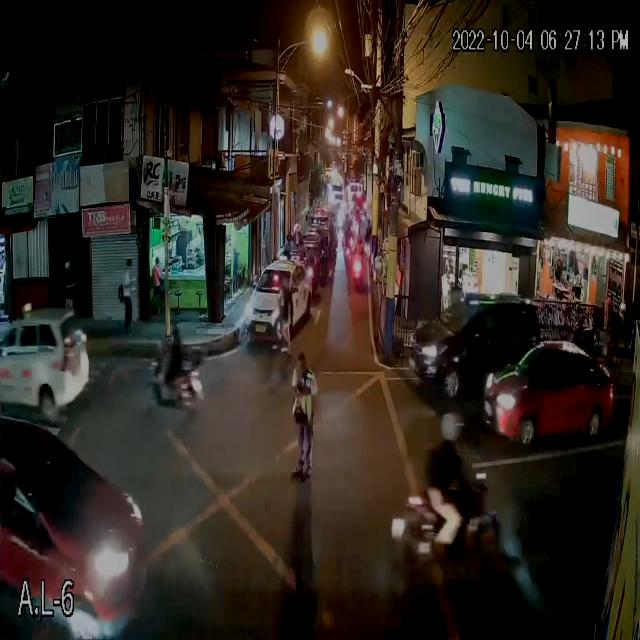Full-Faced: (441, 404, 462, 447)
